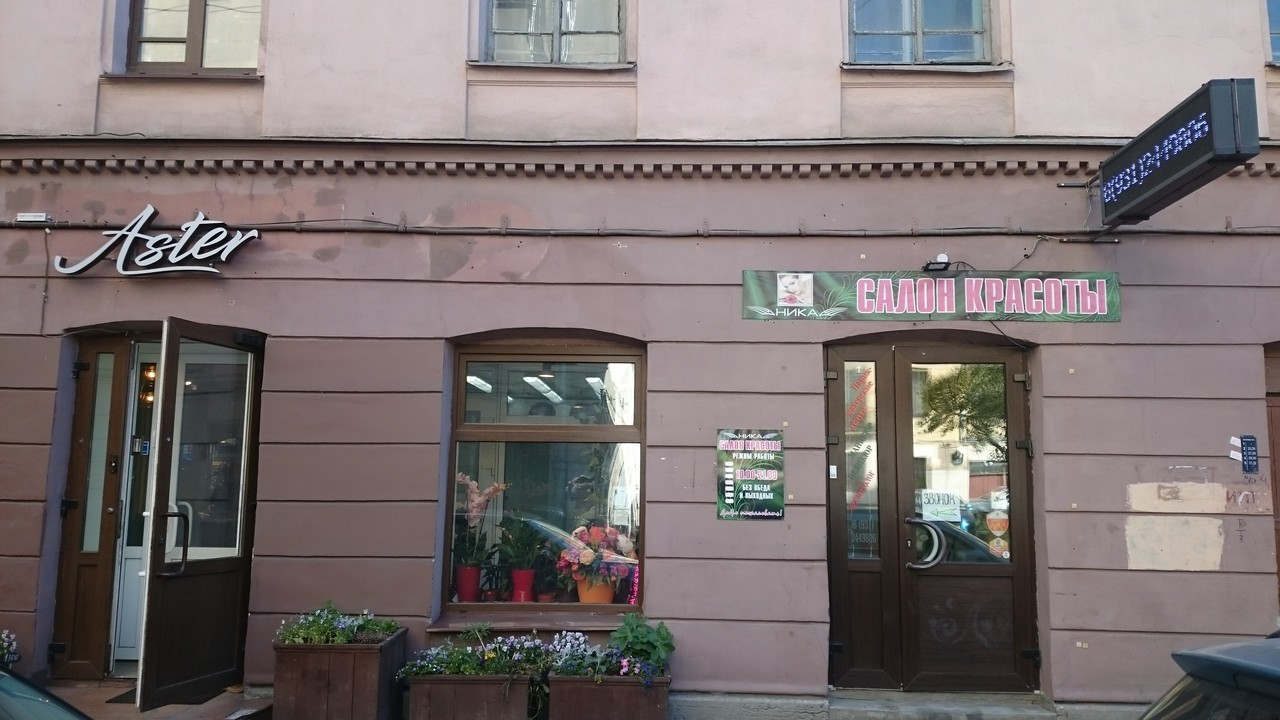cantilever: (1065, 72, 1254, 247)
door: (51, 336, 245, 704), (888, 342, 1033, 685)
signboard: (55, 209, 262, 276)
window: (444, 353, 642, 617)
